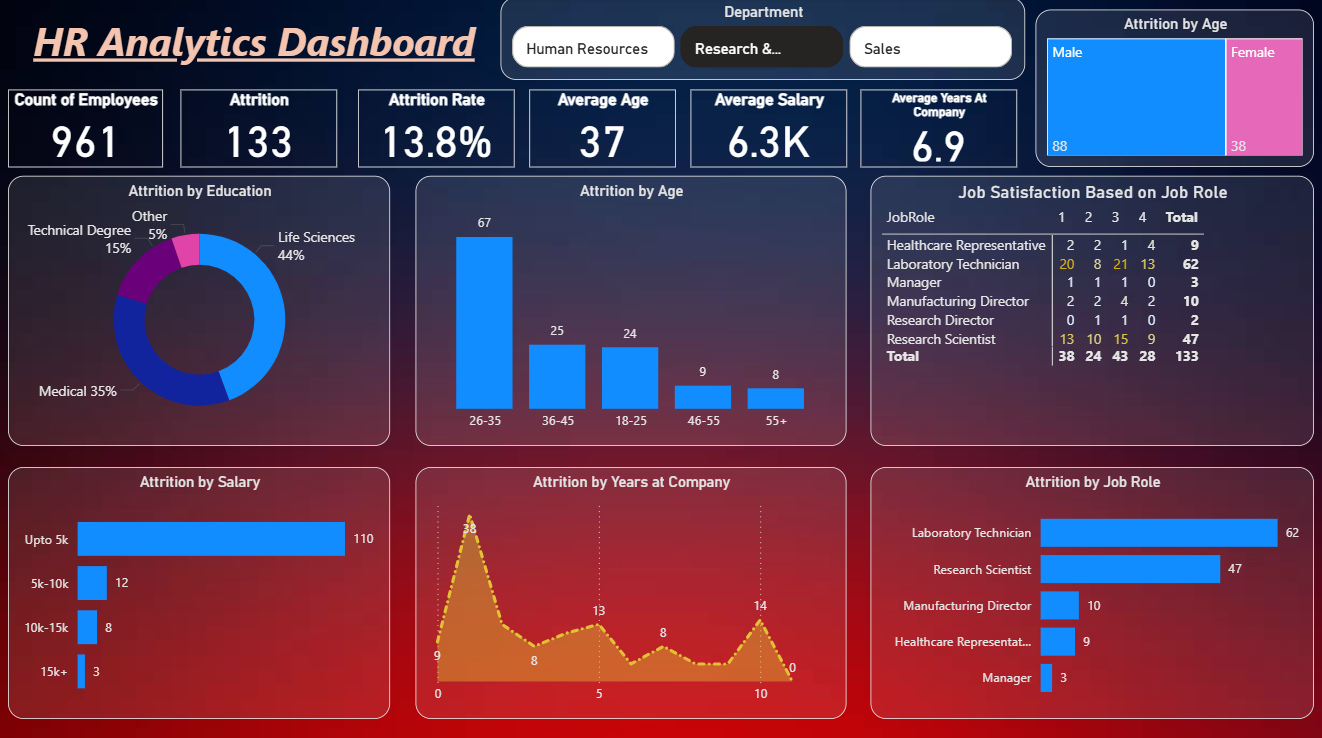

This screenshot's page, from the dashboard's own definition file:
{"tool":"powerbi","page":{"name":"Page 1","canvas":[1280,720],"ordinal":0},"visuals":[{"type":"card","title":"Count of Employees","fields":{"Values":["CountNonNull(HR_Analytics (1).EmpID)"]},"box":[9.6,89.2,149.6,75.5],"z":0},{"type":"card","title":"Attrition","fields":{"Values":["Sum(HR_Analytics (1).AttritionCount)"]},"box":[175.6,89.2,150.9,75.5],"z":1000},{"type":"card","title":"Attrition Rate","fields":{"Values":["HR_Analytics (1).AttritionRate"]},"box":[347.2,89.2,150.9,75.5],"z":2000},{"type":"card","title":"Average Age","fields":{"Values":["Avg(HR_Analytics (1).Age)"]},"box":[513.2,89.2,141.3,75.5],"z":3000},{"type":"card","title":"Average Years At Company","fields":{"Values":["Avg(HR_Analytics (1).YearsAtCompany)"]},"box":[832.9,89.2,150.9,75.5],"z":4000},{"type":"card","title":"Average Salary","fields":{"Values":["Avg(HR_Analytics (1).MonthlyIncome)"]},"box":[668.3,89.2,150.9,75.5],"z":5000},{"type":"donutChart","title":"Attrition by Education","fields":{"Category":["HR_Analytics (1).EducationField"],"Y":["Sum(HR_Analytics (1).AttritionCount)"]},"box":[9.6,172.9,369.1,260.7],"z":6000},{"type":"columnChart","title":"Attrition by Age","fields":{"Category":["HR_Analytics (1).AgeGroup"],"Y":["Sum(HR_Analytics (1).AttritionCount)"]},"box":[403.4,172.9,415.8,260.7],"z":7000},{"type":"pivotTable","title":"Job Satisfaction Based on Job Role","fields":{"Rows":["HR_Analytics (1).JobRole"],"Columns":["HR_Analytics (1).JobSatisfaction"],"Values":["Sum(HR_Analytics (1).AttritionCount)"]},"box":[842.1,172.5,428.3,260.6],"z":8000},{"type":"barChart","title":"Attrition by Salary ","fields":{"Category":["HR_Analytics (1).SalarySlab"],"Y":["Sum(HR_Analytics (1).AttritionCount)"]},"box":[9.6,454.2,369.1,242.9],"z":9000},{"type":"barChart","title":"Attrition by Job Role","fields":{"Category":["HR_Analytics (1).JobRole"],"Y":["Sum(HR_Analytics (1).AttritionCount)"]},"box":[842.5,454.2,428.1,242.9],"z":10000},{"type":"areaChart","title":"Attrition by Years at Company","fields":{"Category":["HR_Analytics (1).YearsAtCompany"],"Y":["Sum(HR_Analytics (1).AttritionCount)"]},"box":[403.4,454.2,415.8,242.9],"z":11000},{"type":"treemap","title":"Attrition by Age","fields":{"Group":["HR_Analytics (1).Gender"],"Values":["Sum(HR_Analytics (1).AttritionCount)"]},"box":[1001.7,12.3,269,152.3],"z":12000},{"type":"advancedSlicerVisual","fields":{"Values":["HR_Analytics (1).Department"]},"box":[485,0,506.7,79.6],"z":13000},{"type":"textbox","box":[9.6,12.3,474.8,67.2],"z":14000}]}

Visuals, with their boxes in screenshot pixels (x1, y1, x2, y2), scaled from the page's 1280x720 canvas onto the 1322x738 screenshot:
"Count of Employees" card: bbox=(10, 91, 164, 169)
"Attrition" card: bbox=(181, 91, 337, 169)
"Attrition Rate" card: bbox=(359, 91, 514, 169)
"Average Age" card: bbox=(530, 91, 676, 169)
"Average Years At Company" card: bbox=(860, 91, 1016, 169)
"Average Salary" card: bbox=(690, 91, 846, 169)
"Attrition by Education" donutChart: bbox=(10, 177, 391, 444)
"Attrition by Age" columnChart: bbox=(417, 177, 846, 444)
"Job Satisfaction Based on Job Role" pivotTable: bbox=(870, 177, 1312, 444)
"Attrition by Salary " barChart: bbox=(10, 466, 391, 715)
"Attrition by Job Role" barChart: bbox=(870, 466, 1312, 715)
"Attrition by Years at Company" areaChart: bbox=(417, 466, 846, 715)
"Attrition by Age" treemap: bbox=(1035, 13, 1312, 169)
advancedSlicerVisual - HR_Analytics (1).Department: bbox=(501, 0, 1024, 82)
textbox: bbox=(10, 13, 500, 81)
